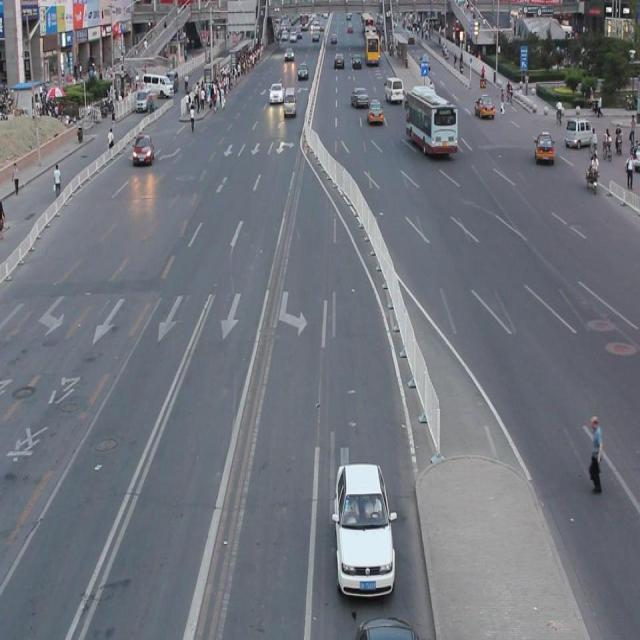car: (335, 460, 395, 594), (355, 614, 418, 640)
